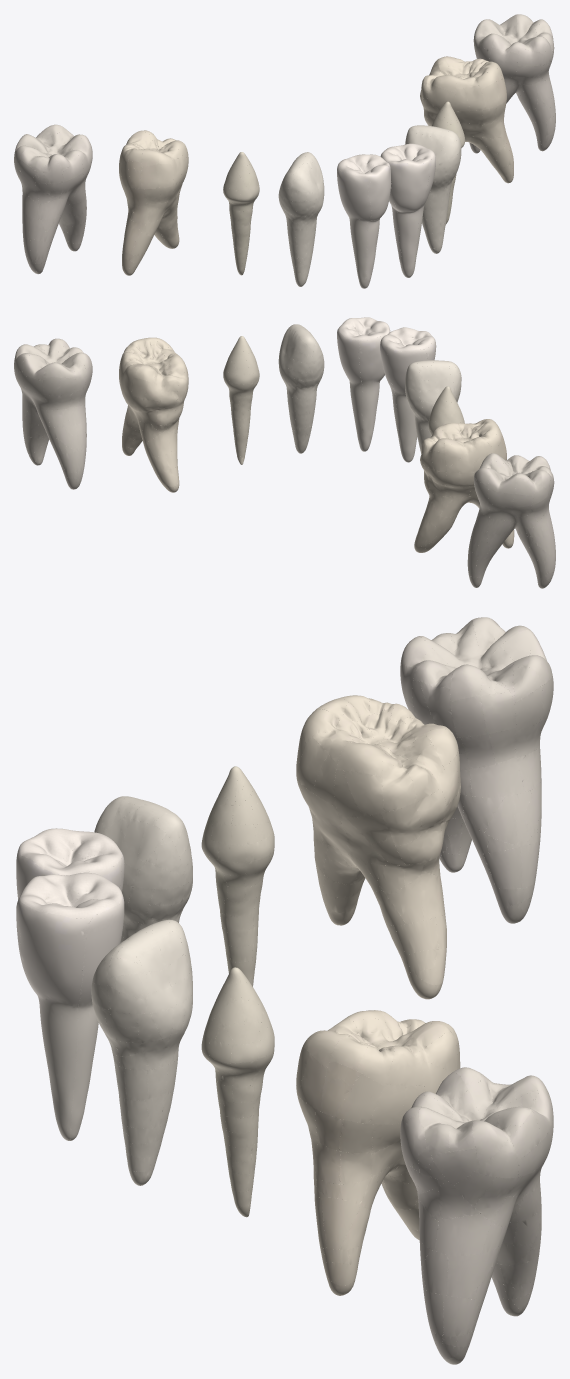
File: inferior_temporal_optimizado.glb
The picture shows the model from 3 angles, top to bottom: view 1: azimuth 30°, elevation 25°; view 2: azimuth 150°, elevation 25°; view 3: azimuth 270°, elevation 25°; orthographic projection. The views are drawn at different scales.
Parts seen in each view (by area): view 1: diente_75, diente_74, diente_84, diente_85, diente_71, diente_81, diente_72, diente_82, diente_73, diente_83; view 2: diente_75, diente_85, diente_84, diente_74, diente_81, diente_82, diente_71, diente_72, diente_83, diente_73; view 3: diente_74, diente_85, diente_75, diente_84, diente_81, diente_82, diente_83, diente_73, diente_72, diente_71.
Part boxes in pixels (left/top/right/bottom): diente_75: left=14, top=124, right=92, bottom=274; diente_74: left=119, top=130, right=188, bottom=275; diente_84: left=420, top=56, right=513, bottom=183; diente_85: left=469, top=14, right=555, bottom=153; diente_71: left=337, top=154, right=390, bottom=288; diente_81: left=380, top=143, right=435, bottom=277; diente_72: left=278, top=152, right=324, bottom=286; diente_82: left=405, top=125, right=461, bottom=253; diente_73: left=223, top=152, right=259, bottom=275; diente_83: left=432, top=101, right=465, bottom=224; diente_75: left=467, top=453, right=555, bottom=588; diente_85: left=14, top=338, right=92, bottom=489; diente_84: left=119, top=337, right=188, bottom=492; diente_74: left=414, top=419, right=514, bottom=552; diente_81: left=337, top=317, right=390, bottom=451; diente_82: left=278, top=324, right=324, bottom=453; diente_71: left=380, top=327, right=436, bottom=462; diente_72: left=405, top=360, right=461, bottom=453; diente_83: left=223, top=336, right=259, bottom=464; diente_73: left=428, top=386, right=464, bottom=435; diente_74: left=296, top=695, right=460, bottom=999; diente_85: left=400, top=1067, right=553, bottom=1364; diente_75: left=400, top=617, right=553, bottom=923; diente_84: left=296, top=1010, right=460, bottom=1295; diente_81: left=16, top=872, right=124, bottom=1140; diente_82: left=91, top=919, right=192, bottom=1185; diente_83: left=201, top=967, right=274, bottom=1217; diente_73: left=201, top=766, right=274, bottom=986; diente_72: left=94, top=796, right=192, bottom=942; diente_71: left=16, top=828, right=124, bottom=918.
Bounding box in the file's own units: 8.41 × 1.9 × 3.68.
5 materials, 5 textured.
